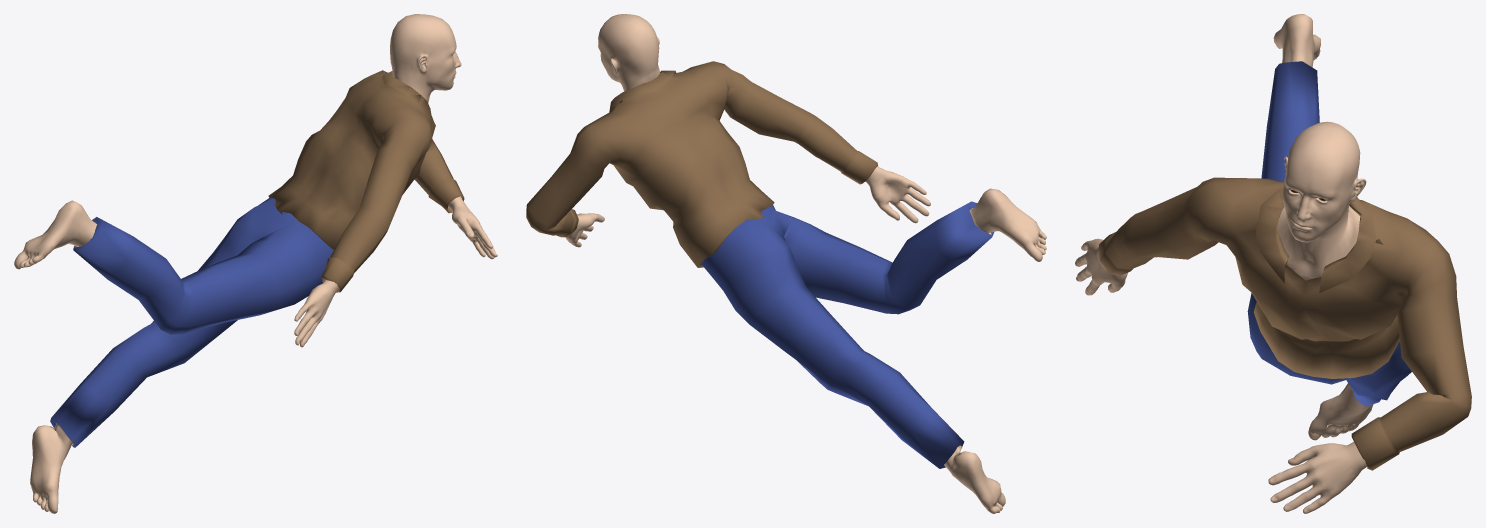
File: float2_orange.dae
3 views of the same model, side by side, from view 1: azimuth 30°, elevation 25°; view 2: azimuth 150°, elevation 25°; view 3: azimuth 270°, elevation 25° (orthographic). The views are drawn at different scales.
Parts seen in each view (by area): view 1: human; view 2: human; view 3: human.
Part boxes in pixels (bbox=[...]): human: bbox=[14, 14, 497, 513]; human: bbox=[526, 14, 1046, 513]; human: bbox=[1075, 14, 1471, 513].
Size of the model in its own units: 1.54 by 0.8076 by 1.26.
